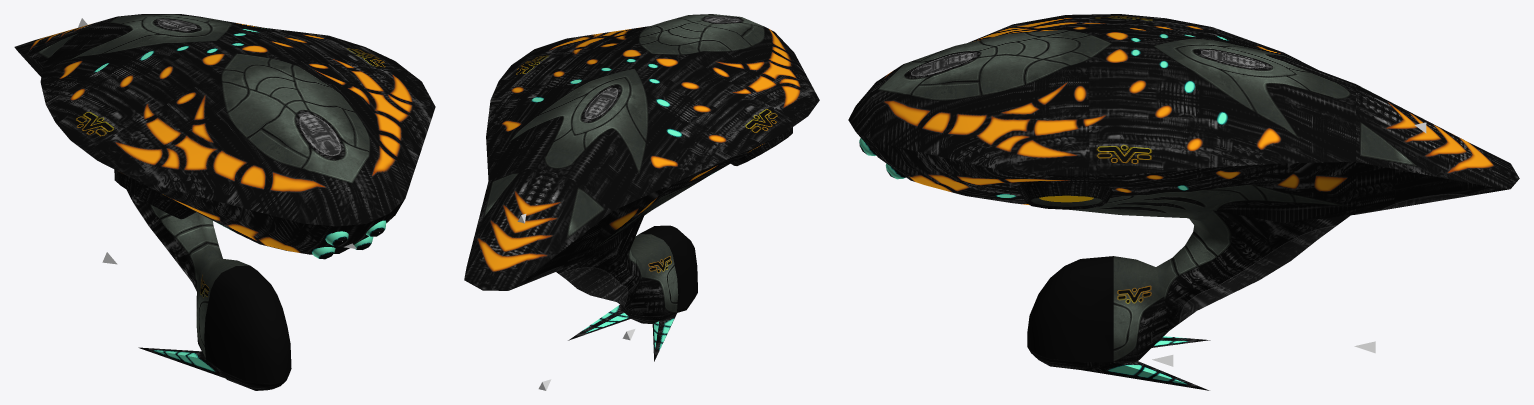
The model's file is fvburn00.FBX.
The picture shows the model from 3 angles, left to right: view 1: azimuth 30°, elevation 25°; view 2: azimuth 150°, elevation 25°; view 3: azimuth 270°, elevation 25°; orthographic projection. The views are drawn at different scales.
Parts seen in each view (by area): view 1: mainbody, canopy; view 2: mainbody, canopy; view 3: mainbody, canopy.
Boxes of the visible parts, left/top/right/bottom form: mainbody: left=14, top=14, right=435, bottom=390; canopy: left=204, top=265, right=291, bottom=383; mainbody: left=464, top=14, right=819, bottom=361; canopy: left=640, top=225, right=697, bottom=312; mainbody: left=848, top=14, right=1519, bottom=390; canopy: left=1027, top=256, right=1113, bottom=361.
Size of the model in its own units: 6.99 by 12.33 by 6.52.
